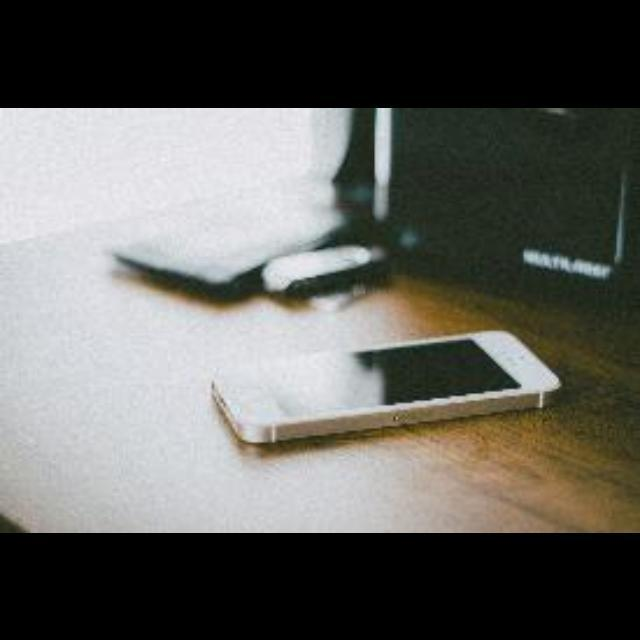PhoneUse: (208, 331, 564, 442)
